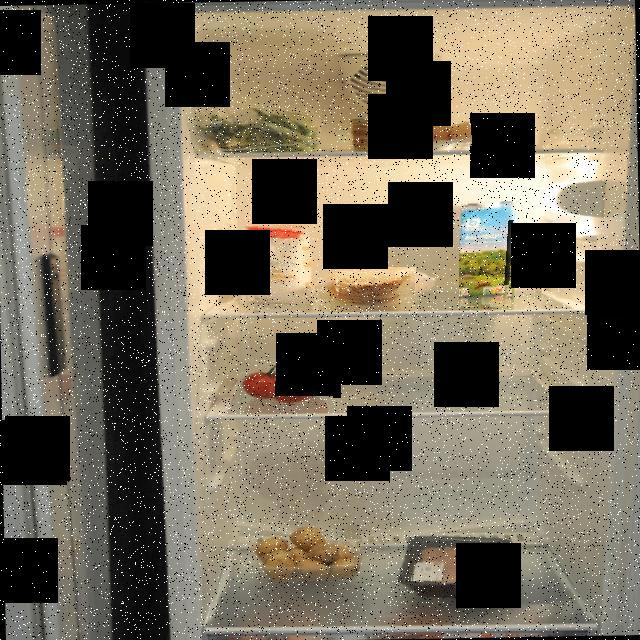bread: (321, 267, 416, 305)
chicken_breast: (410, 542, 506, 594)
corn: (346, 115, 403, 153)
eggs: (416, 120, 484, 150)
milk: (460, 201, 516, 307)
potato: (254, 527, 360, 585)
spinach: (190, 108, 322, 154)
sugar: (242, 220, 316, 304)
tomato: (240, 360, 334, 406)
